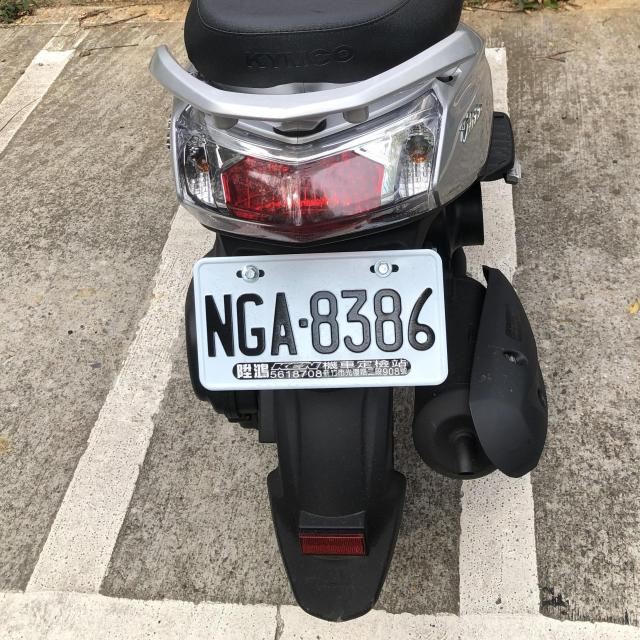W: (190, 246, 446, 390)
